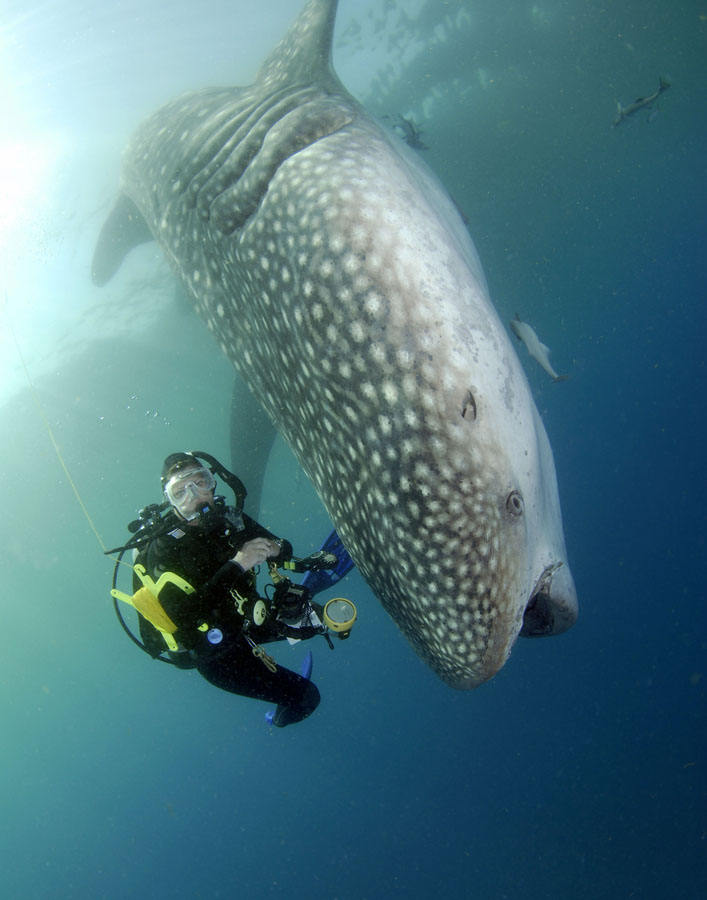Rhincodon_typusw: (218, 2, 611, 699)
